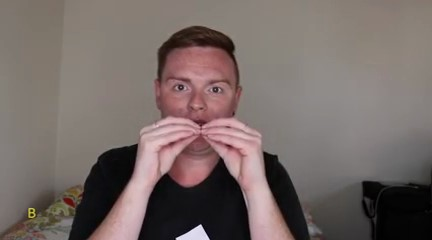B: (128, 116, 273, 193)
